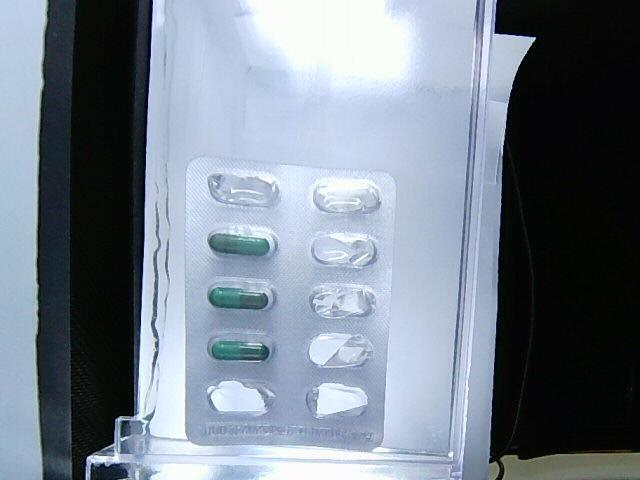Light Front: (185, 156, 396, 449)
No Pill Front: (208, 173, 280, 207), (206, 380, 274, 416), (313, 179, 381, 214), (310, 284, 376, 319), (311, 234, 376, 269), (309, 333, 372, 369), (306, 383, 367, 419)
Pill Front: (209, 233, 270, 256), (209, 288, 269, 309), (211, 341, 268, 361)
